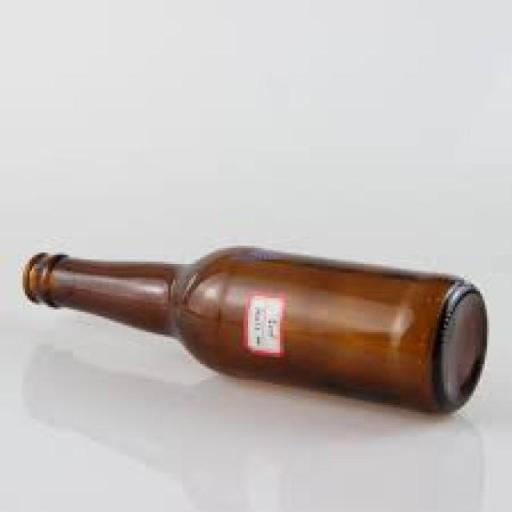glass: (9, 220, 512, 440)
